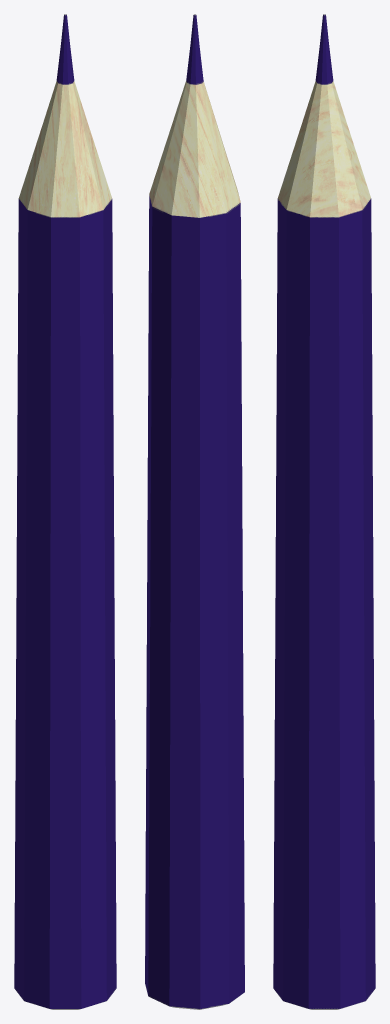
File: lapis_TEXTURIZADO_ROXO.fbx
3 renders of one model, left to right at view 1: azimuth 90°, elevation 25°; view 2: azimuth 150°, elevation 25°; view 3: azimuth 270°, elevation 25°, orthographic.
Visible parts, largest first — view 1: roxo; view 2: roxo; view 3: roxo.
Boxes of the visible parts, x1=… form: roxo: x1=14, y1=14, x2=116, y2=1009; roxo: x1=145, y1=14, x2=244, y2=1009; roxo: x1=273, y1=14, x2=375, y2=1009.
Size of the model in its own units: 1.55 by 17.18 by 1.63.
1 material, 1 textured.
